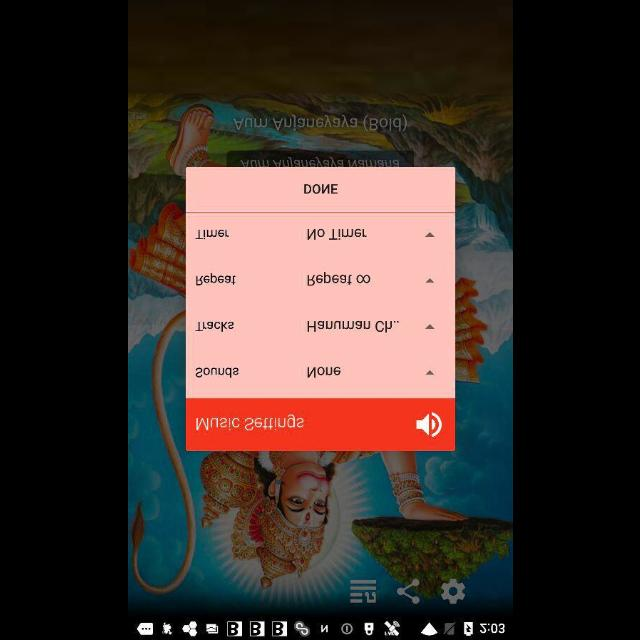icon: (350, 578, 376, 602), (441, 578, 465, 604), (396, 578, 418, 604), (424, 324, 434, 328), (424, 278, 434, 282), (424, 232, 434, 236), (426, 370, 434, 374)
image: (414, 411, 442, 435)
panel: (186, 168, 454, 450)
text: (233, 115, 407, 132), (195, 414, 302, 432), (306, 320, 398, 332), (307, 272, 369, 286), (308, 228, 367, 240), (196, 272, 237, 286), (195, 366, 239, 378), (196, 320, 234, 332), (196, 228, 230, 240), (308, 366, 340, 378)
textbutton: (186, 167, 454, 211)
uppertaskbar: (128, 617, 512, 639)
